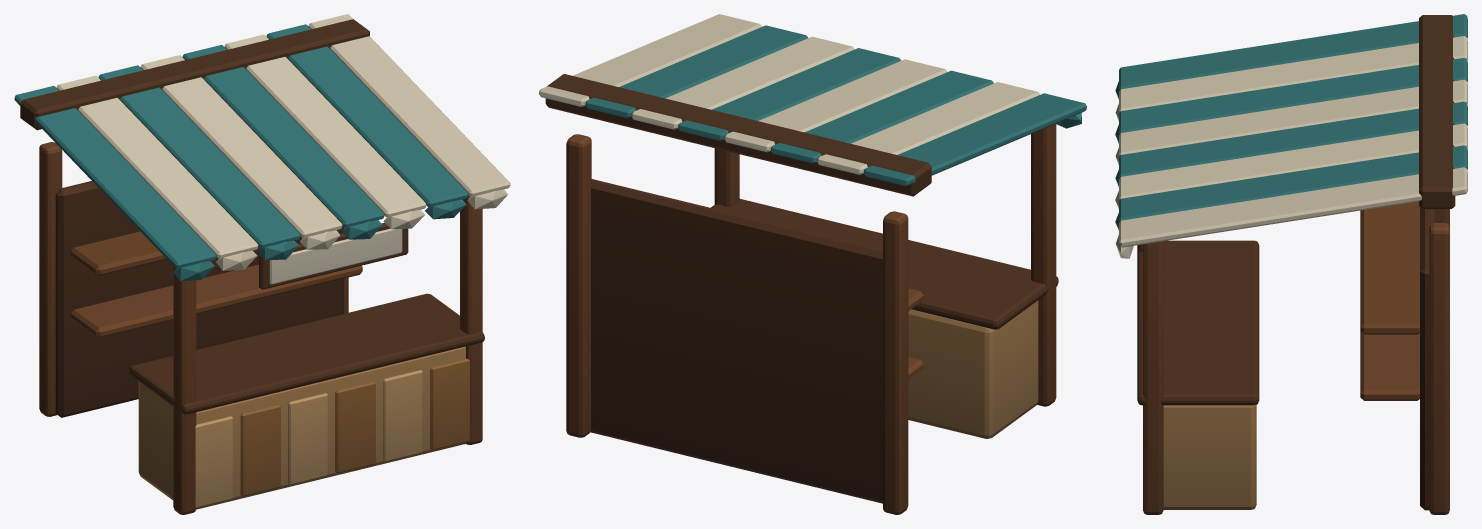
The model's file is stall_teal.glb.
3 views of the same model, side by side, from view 1: azimuth 30°, elevation 25°; view 2: azimuth 150°, elevation 25°; view 3: azimuth 270°, elevation 25° (orthographic). The views are drawn at different scales.
Visible parts, largest first — view 1: stall_teal; view 2: stall_teal; view 3: stall_teal.
Part boxes in pixels (bbox=[...]): stall_teal: bbox=[14, 14, 510, 514]; stall_teal: bbox=[539, 14, 1086, 514]; stall_teal: bbox=[1115, 14, 1467, 514].
Bounding box in the file's own units: 3.4 × 3.06 × 2.89.
